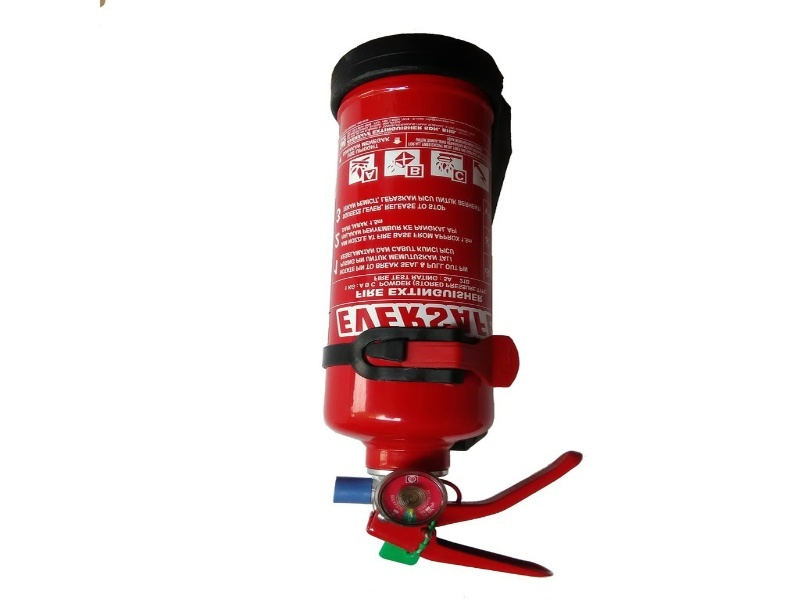fire_extinguisher: (274, 25, 594, 584)
